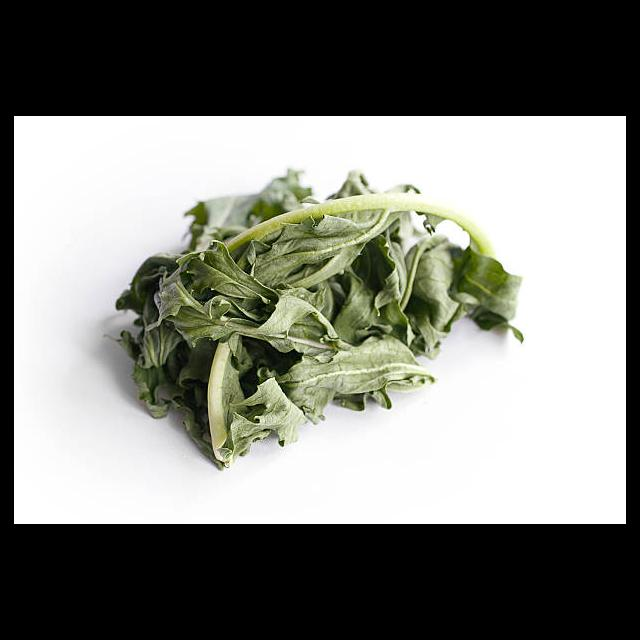food_waste: (99, 165, 555, 450)
